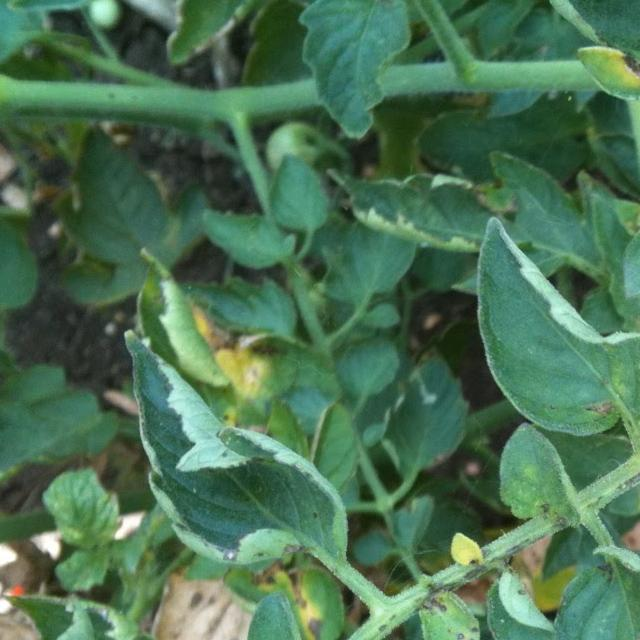Tomato leaf bacterial spot: (90, 314, 397, 624), (459, 230, 640, 440), (391, 581, 491, 640), (612, 136, 640, 302), (637, 475, 640, 616)
